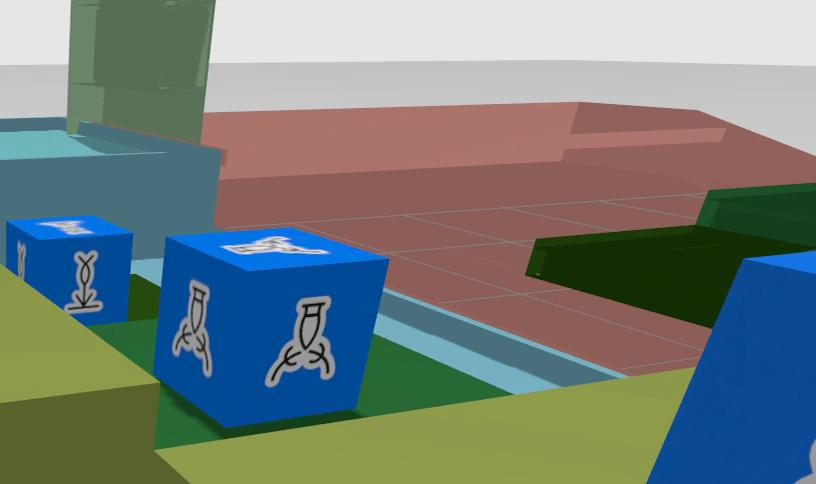KFS_REAL: (152, 228, 388, 426), (645, 251, 815, 484), (3, 215, 133, 323), (265, 297, 332, 387), (173, 280, 210, 375), (64, 250, 102, 313), (221, 235, 328, 255)
